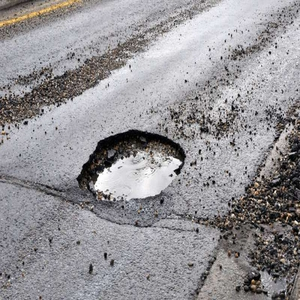pothole: (73, 127, 190, 206)
